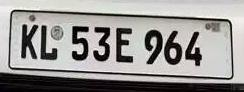3: (92, 25, 111, 61)
4: (182, 29, 204, 66)
5: (70, 22, 89, 60)
6: (162, 27, 183, 65)
9: (142, 26, 162, 64)
E: (114, 25, 134, 64)
K: (19, 20, 37, 60)
L: (38, 22, 58, 60)
